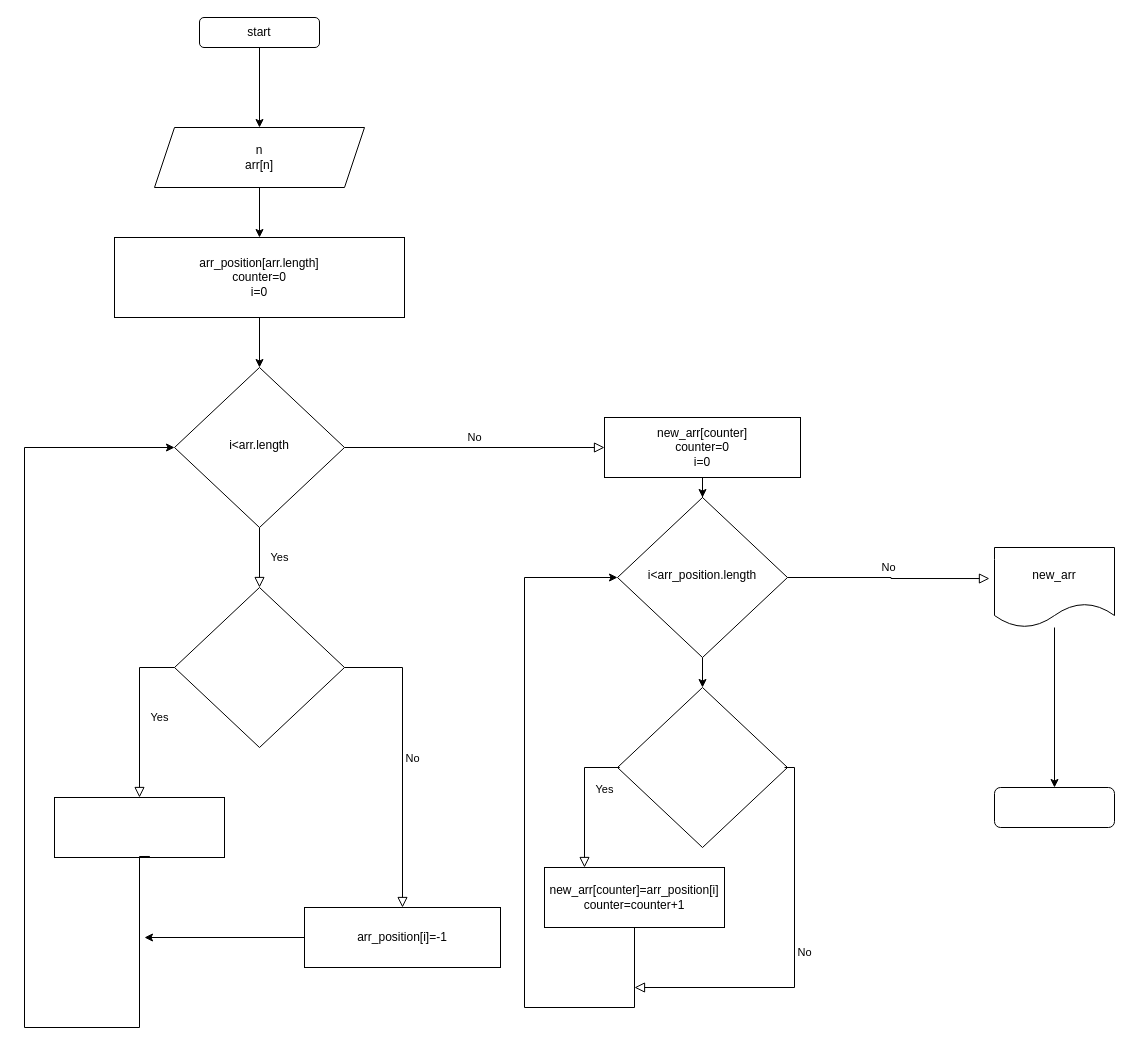
Image size: 1132x1053. Some labels were removed from this diagram. The centre of each missing label's shape, as x and y in pixels:
arr[i].length<=3: point 259,667
arr_position[i]!=-1: point 702,767
arr_position[i]=i counter=counter+1: point 139,827
finish: point 1054,807
